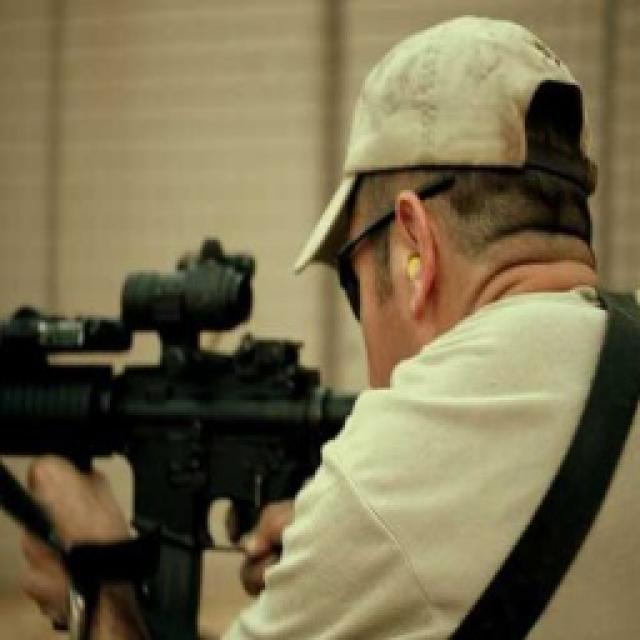long weapon: (0, 204, 310, 582)
